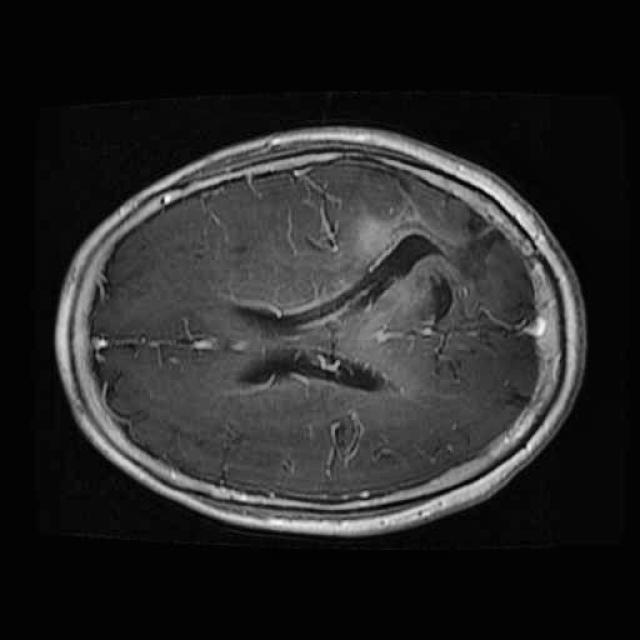Non-Tumor: (341, 210, 452, 316)
